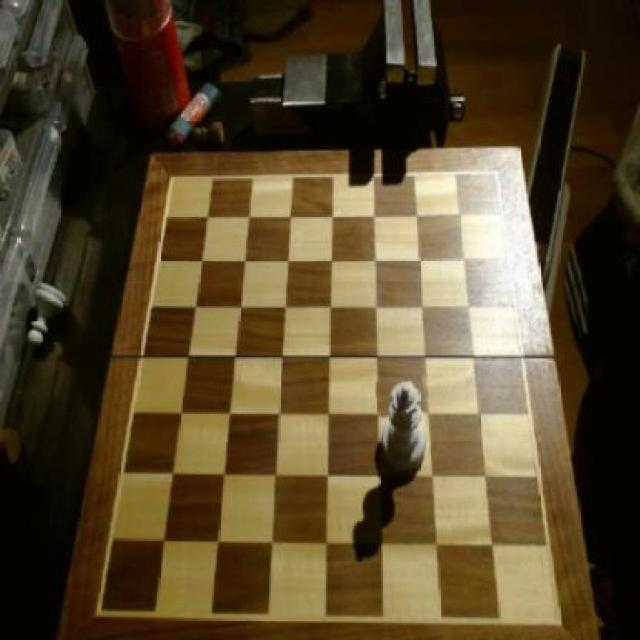white-pawn: (378, 377, 431, 473)
